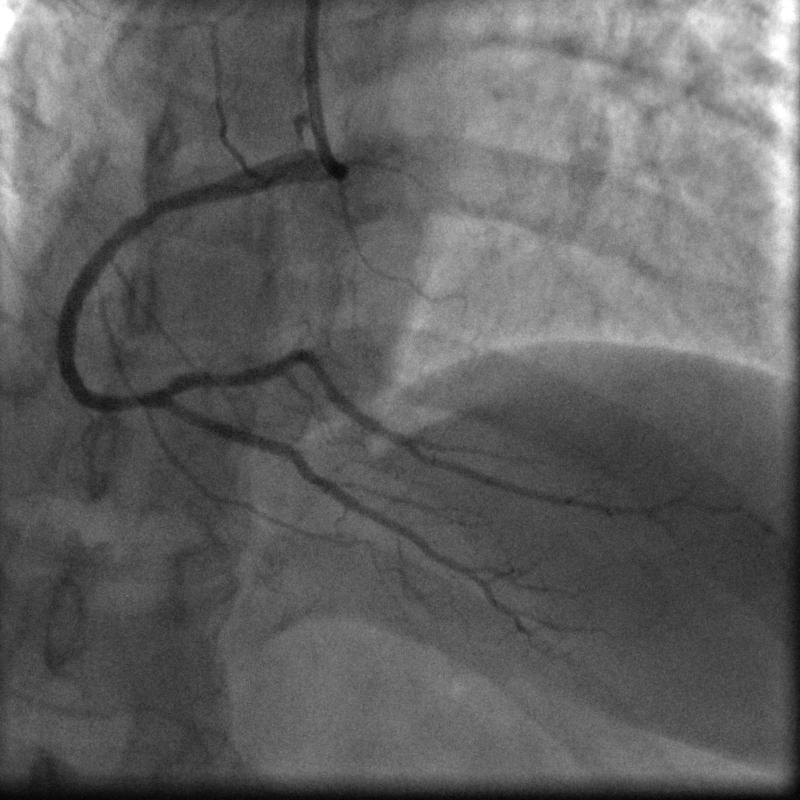Stenosis: (113, 388, 155, 413)
